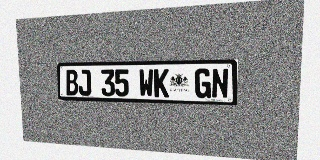3: (101, 69, 115, 96)
5: (115, 69, 129, 97)
B: (65, 70, 78, 96)
G: (195, 68, 211, 98)
J: (78, 70, 91, 96)
K: (154, 69, 169, 97)
N: (211, 68, 229, 99)
W: (139, 69, 154, 97)
